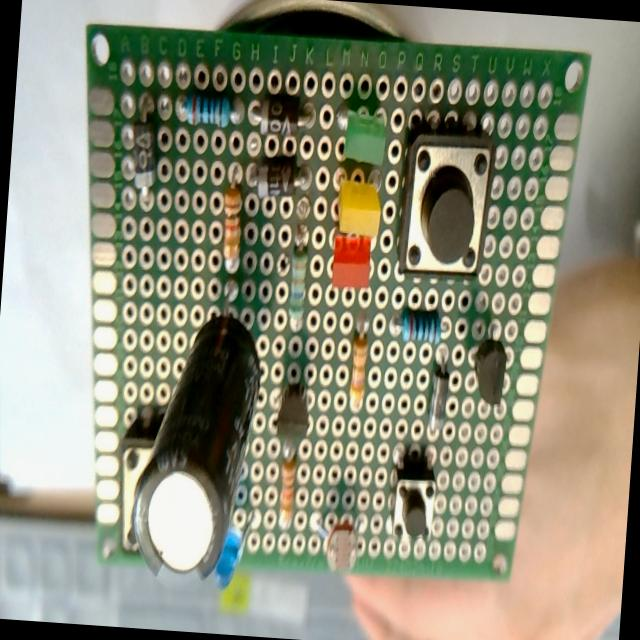Electrolytic capacitor: (123, 279, 272, 593)
diode: (119, 90, 172, 205), (245, 150, 318, 209), (249, 86, 315, 146), (419, 354, 453, 434)
led: (335, 87, 393, 180), (330, 168, 390, 240), (326, 230, 376, 290)
resistor: (282, 230, 314, 332), (216, 172, 248, 272), (174, 87, 243, 128), (386, 308, 448, 350), (346, 318, 371, 412)
switch: (392, 106, 504, 290)
transistor: (468, 335, 512, 412)
